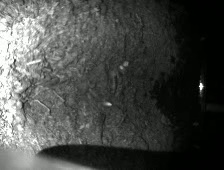corn: (121, 61, 130, 68), (103, 102, 113, 106), (118, 65, 124, 70)
